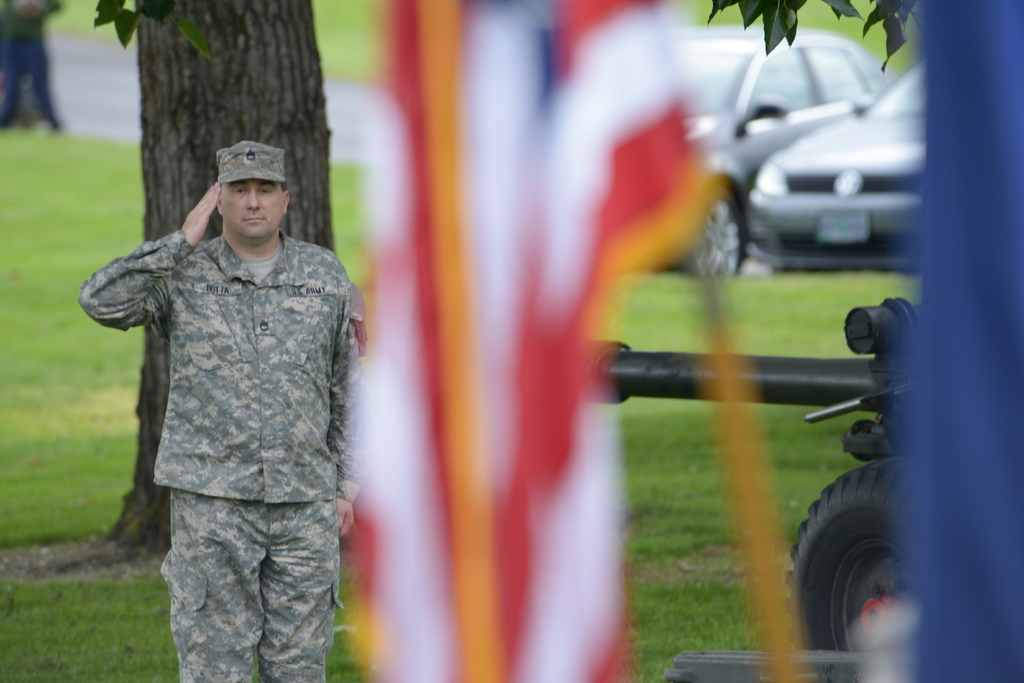cars: (663, 22, 893, 279), (747, 71, 926, 259)
